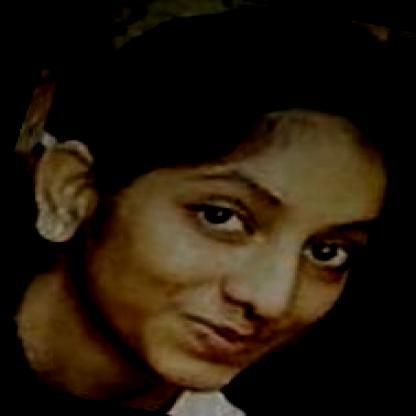without_mask: (137, 137, 366, 377)
